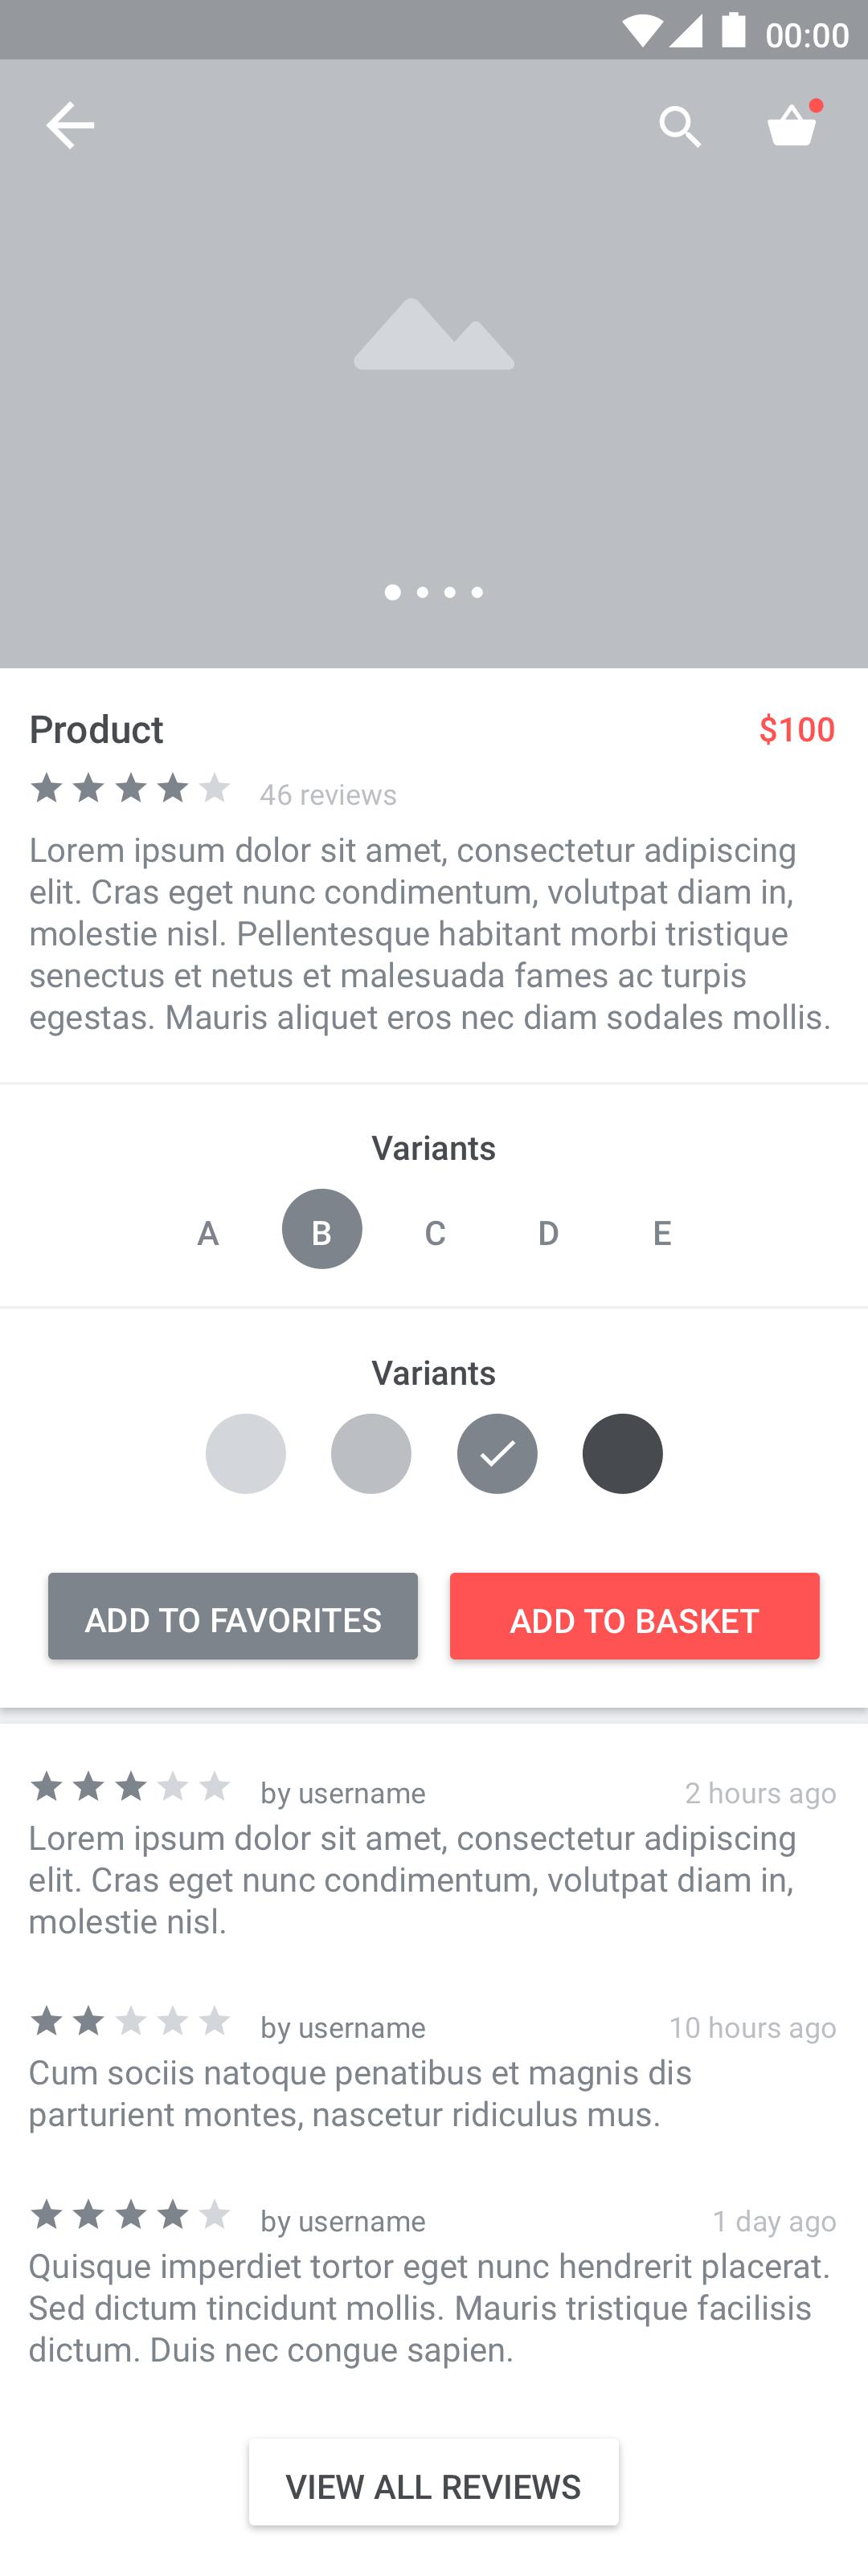Icon: (329, 1413, 413, 1497), (580, 1413, 664, 1495), (205, 1413, 288, 1495), (30, 2004, 232, 2037), (30, 2198, 232, 2231), (457, 1414, 539, 1495), (31, 1769, 232, 1802), (283, 1189, 363, 1270), (31, 772, 230, 803), (764, 97, 825, 146), (46, 102, 97, 151), (659, 107, 702, 149)
Image: (2, 61, 868, 669)
PageIndicator: (385, 585, 483, 601)
Text: (30, 836, 830, 1037), (30, 2252, 830, 2371), (30, 1824, 796, 1935), (31, 2058, 694, 2136), (260, 2208, 427, 2239), (261, 1781, 427, 1810), (671, 2016, 837, 2044), (261, 2016, 427, 2044), (686, 1781, 835, 1810), (31, 713, 164, 746), (713, 2208, 837, 2238), (370, 1134, 496, 1161), (260, 784, 398, 807), (370, 1360, 496, 1385), (759, 715, 835, 747), (196, 1221, 220, 1245), (426, 1221, 446, 1245), (541, 1221, 559, 1245), (654, 1221, 672, 1245)
TextButton: (48, 1572, 419, 1661), (449, 1572, 820, 1659), (250, 2438, 620, 2525)
UpperTaskBar: (0, 0, 868, 61)
